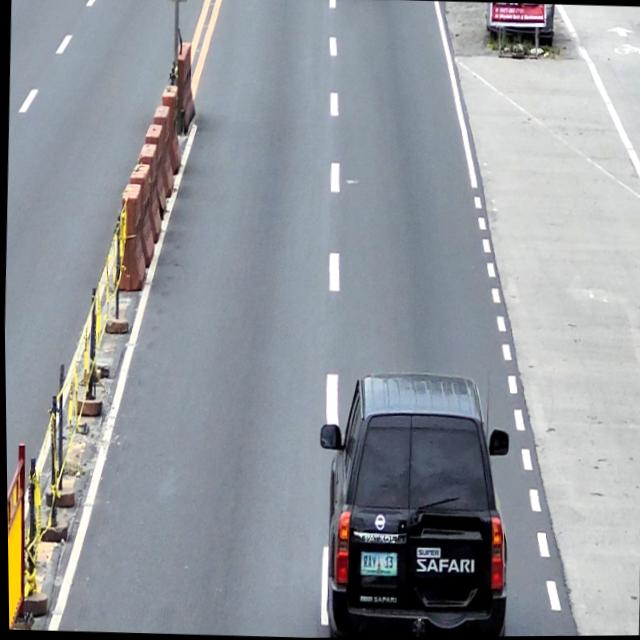Car: (310, 369, 513, 638)
License-Plate: (358, 554, 395, 576)
